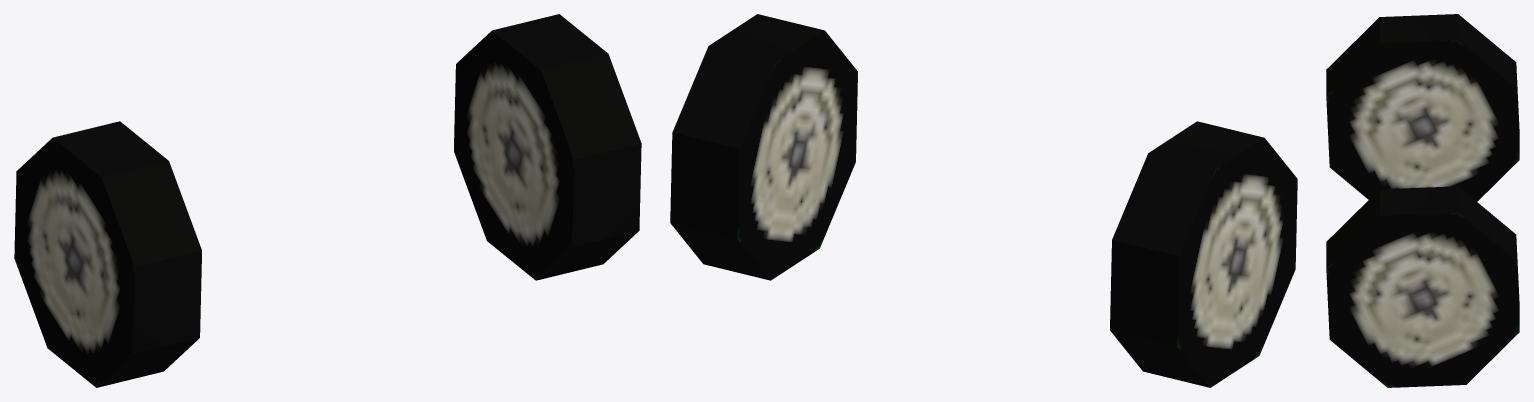
The model's file is landrover_wheels_r.obj.
The picture shows the model from 3 angles, left to right: view 1: azimuth 30°, elevation 25°; view 2: azimuth 150°, elevation 25°; view 3: azimuth 270°, elevation 25°; orthographic projection. The views are drawn at different scales.
Visible parts, largest first — view 1: landrover_wheels_r; view 2: landrover_wheels_r; view 3: landrover_wheels_r.
Part boxes in pixels (x1=…): landrover_wheels_r: x1=14, y1=14, x2=641, y2=387; landrover_wheels_r: x1=670, y1=14, x2=1297, y2=387; landrover_wheels_r: x1=1326, y1=14, x2=1519, y2=387.
Bounding box in the file's own units: 1.74 × 0.714 × 0.714.
Materials: 1 (1 with a texture image).
